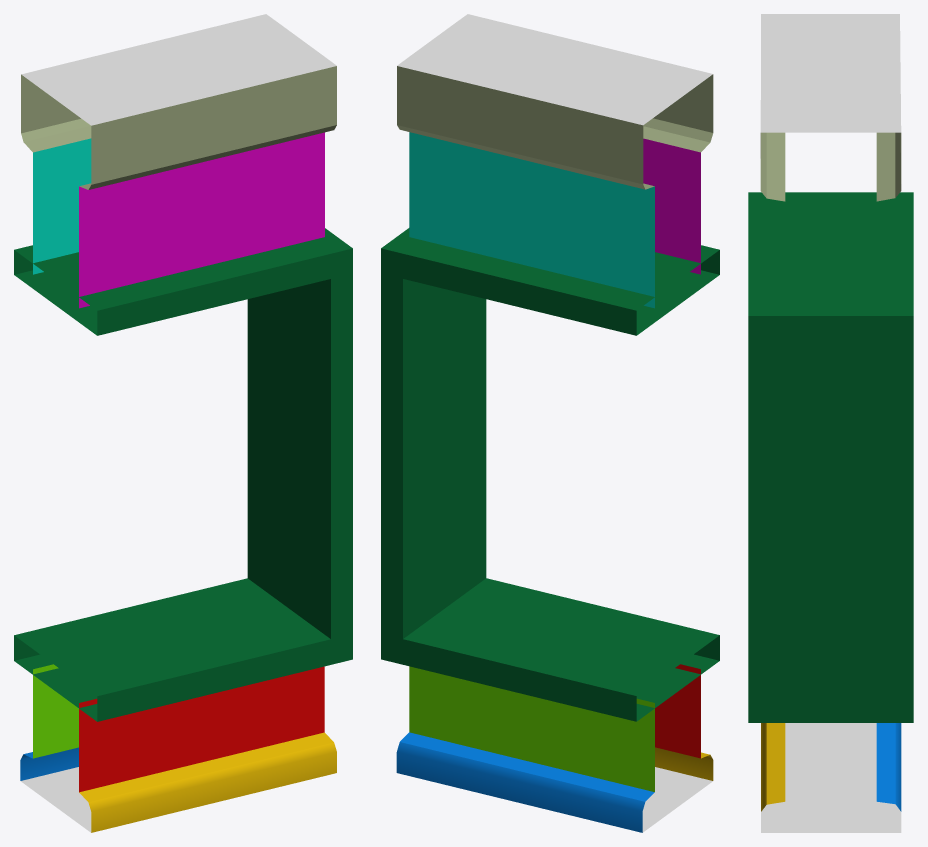
File: Wall_window_left.fbx
3 renders of one model, left to right at view 1: azimuth 30°, elevation 25°; view 2: azimuth 150°, elevation 25°; view 3: azimuth 270°, elevation 25°, orthographic.
Parts seen in each view (by area): view 1: wall_Window_right1; view 2: wall_Window_right1; view 3: wall_Window_right1.
Boxes of the visible parts, box(x1,y1,x2,y2) form: wall_Window_right1: box(14, 14, 352, 832); wall_Window_right1: box(381, 14, 719, 832); wall_Window_right1: box(748, 14, 913, 832).
Size of the model in its own units: 104 by 275 by 58.73.
